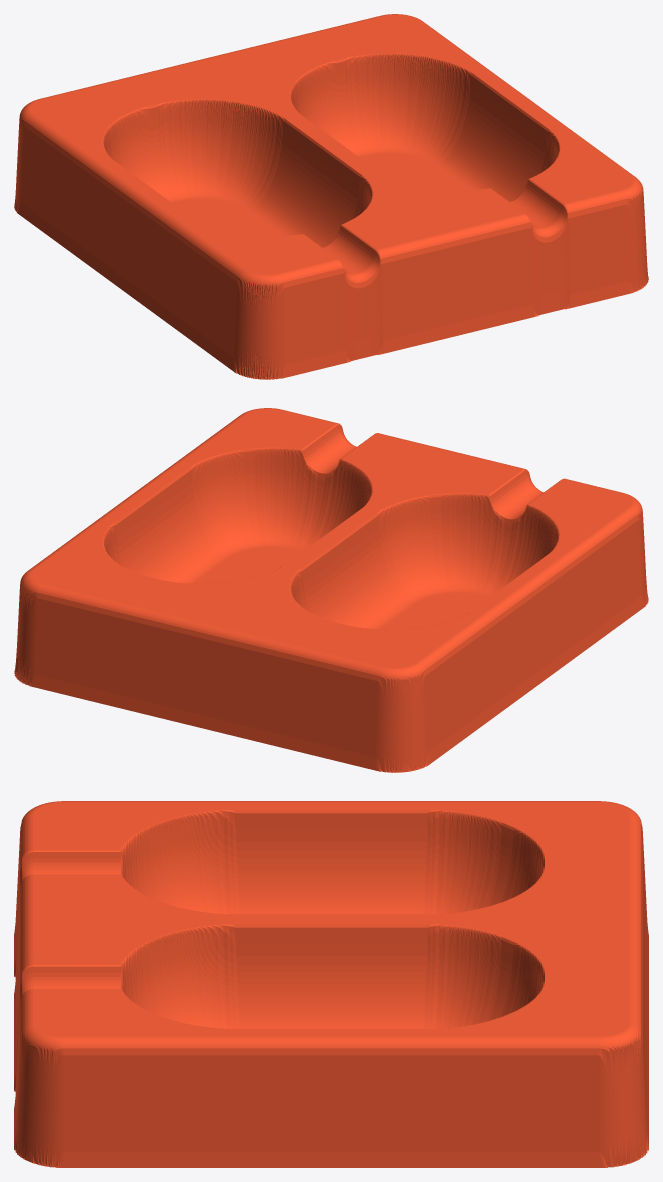
The model's file is mold.glb.
3 views of the same model, one above another, from view 1: azimuth 30°, elevation 25°; view 2: azimuth 150°, elevation 25°; view 3: azimuth 270°, elevation 25° (orthographic). The views are drawn at different scales.
Parts seen in each view (by area): view 1: geometry_0; view 2: geometry_0; view 3: geometry_0.
Boxes of the visible parts, bbox=[...] form: geometry_0: bbox=[14, 14, 648, 379]; geometry_0: bbox=[14, 408, 648, 772]; geometry_0: bbox=[14, 801, 648, 1167].
Size of the model in its own units: 0.1073 by 0.0245 by 0.1147.
